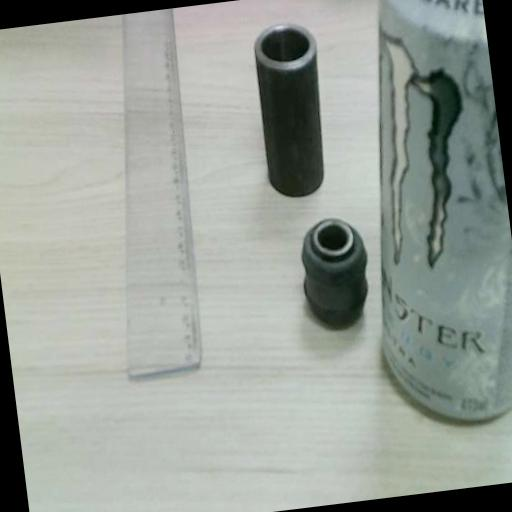peca: (254, 23, 324, 195), (302, 219, 368, 328)
